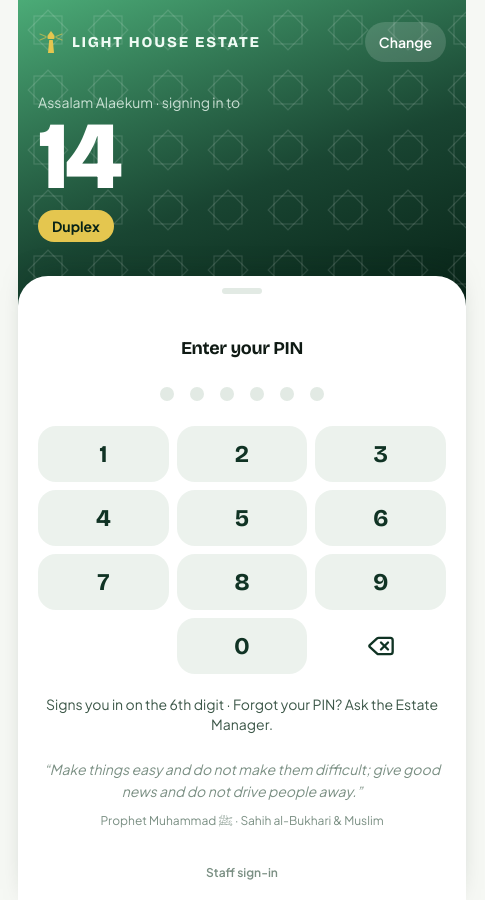
Test case: Resident login › shows 'House number or PIN is incorrect.' for a wrong PIN
Click the button "2" at (242, 454), box top-left (177, 426), bottom-right (307, 482)
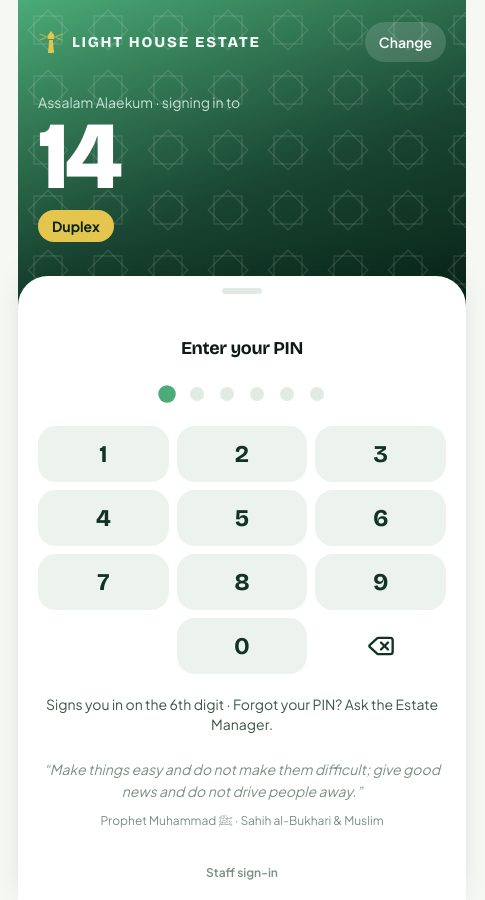
Click the button "4" at (103, 518), box top-left (38, 490), bottom-right (169, 546)
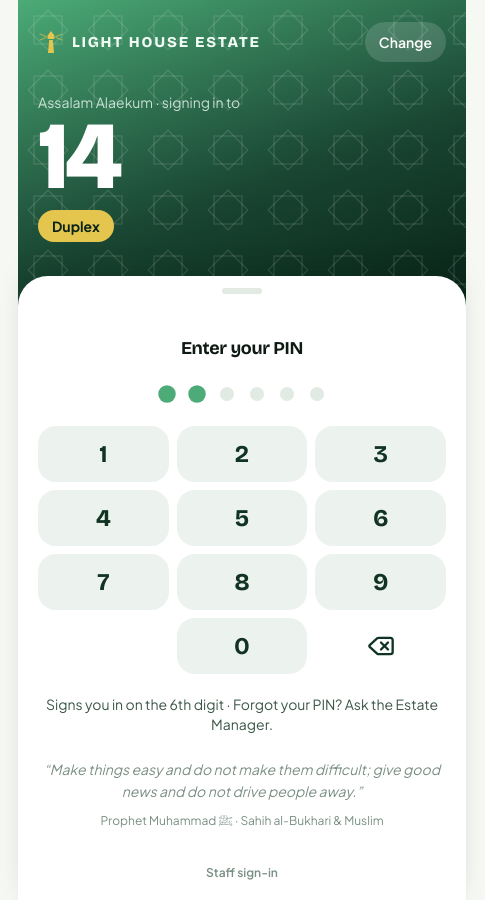
Click the button "6" at (381, 518), box top-left (315, 490), bottom-right (446, 546)
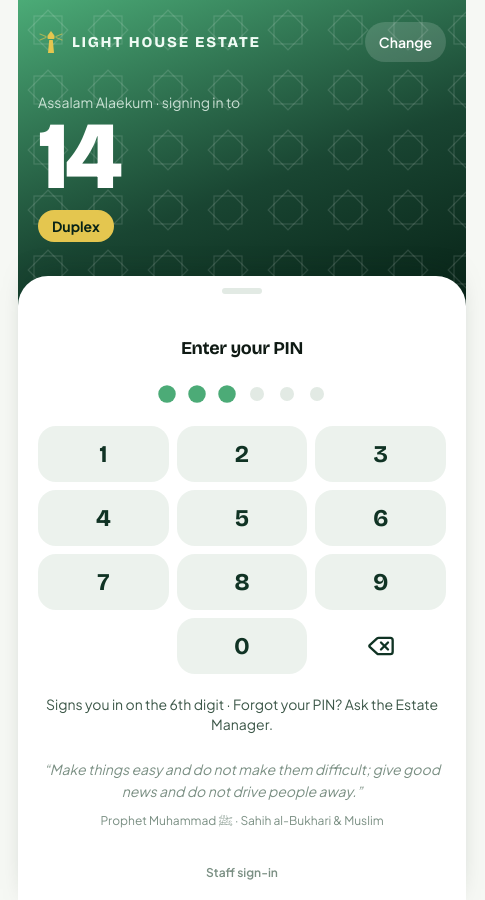
Click the button "8" at (242, 582), box top-left (177, 554), bottom-right (307, 610)
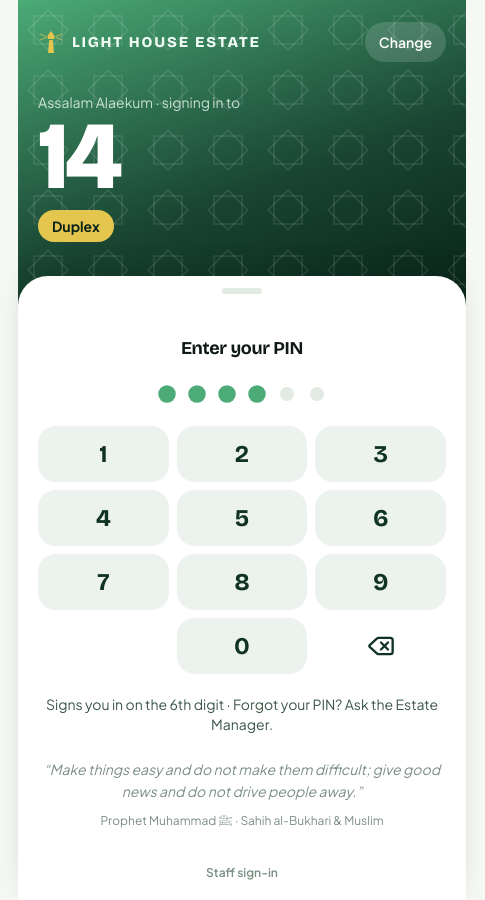
Click the button "1" at (103, 454), box top-left (38, 426), bottom-right (169, 482)
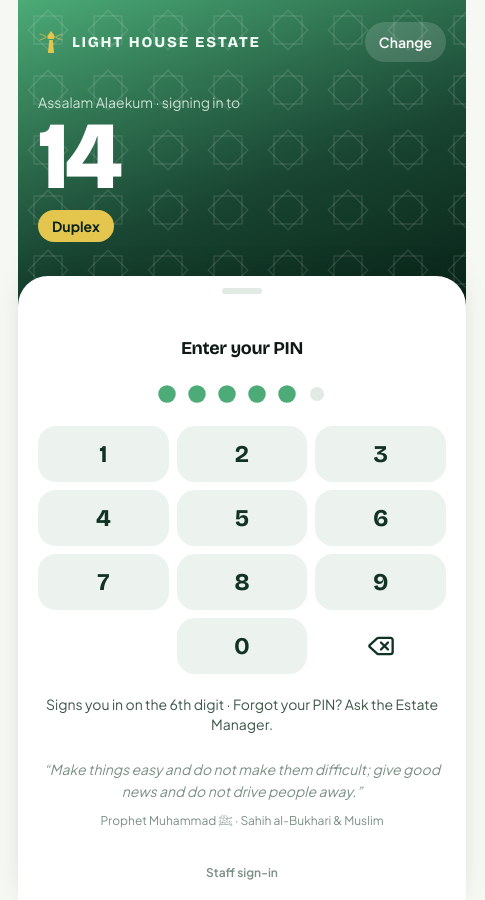
Click the button "0" at (242, 646), box top-left (177, 618), bottom-right (307, 674)
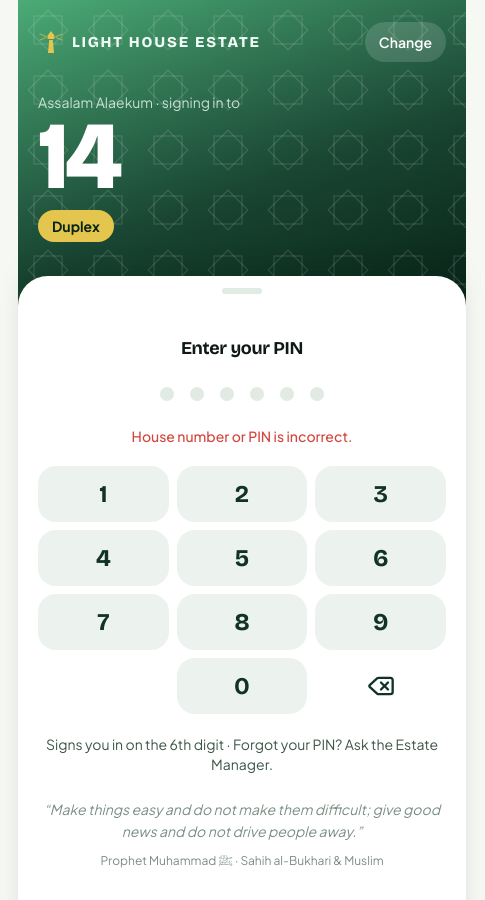
Result: the message reads "House number or PIN is incorrect." at top-left (132, 427), bottom-right (352, 445)
